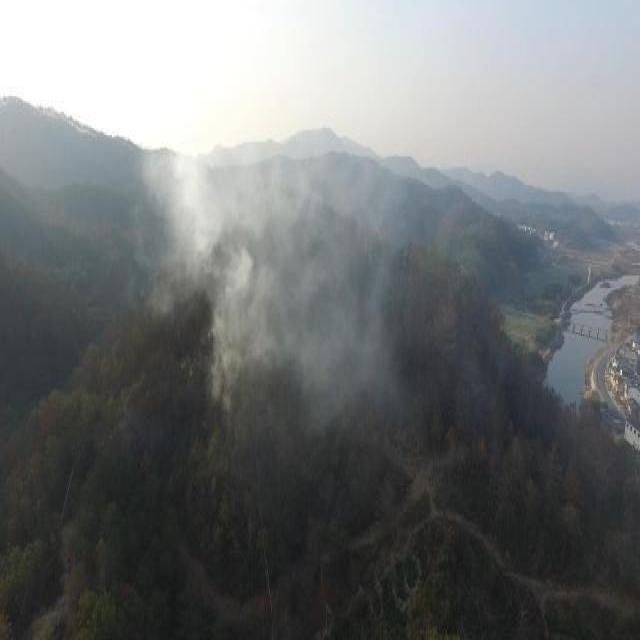Smoke: (142, 110, 406, 439)
